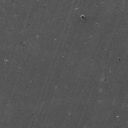corrosion: (80, 14, 86, 20)
